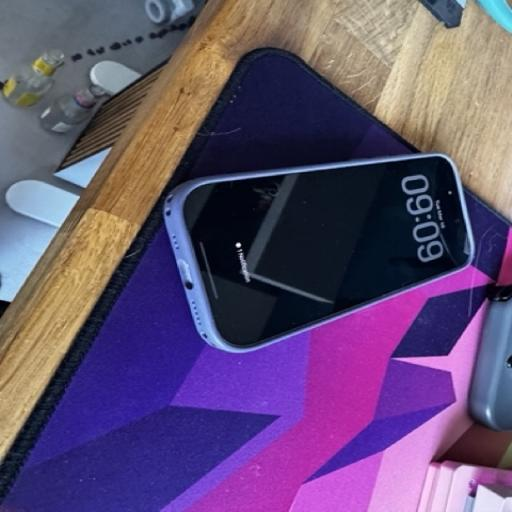phone: (160, 166, 512, 328)
